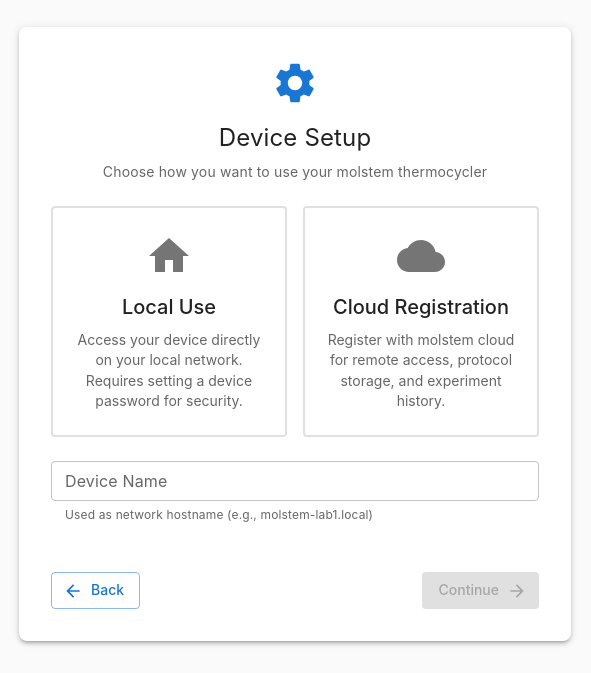
Test: SetupModePage › validates device name format
# Enter invalid device name
Type "-invalid" into the field labelled "Device Name" at (295, 480), box left=51, top=460, right=539, bottom=500
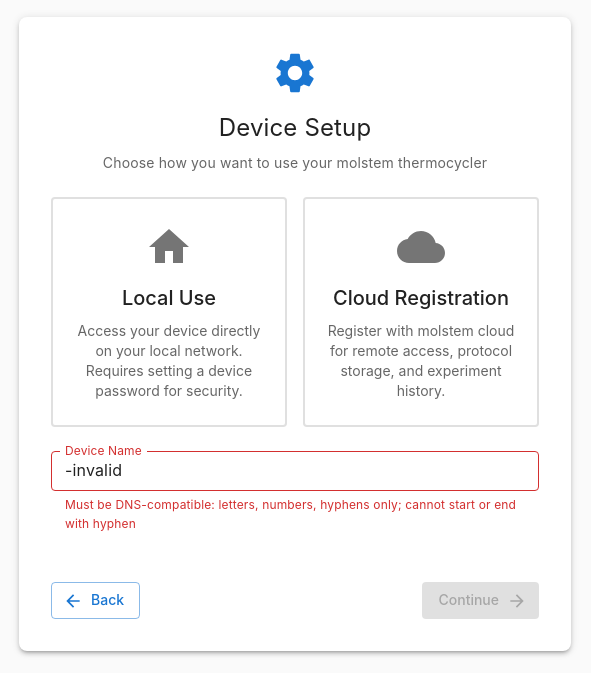
Expected: the text "DNS-compatible" is shown, left=65, top=497, right=516, bottom=532
